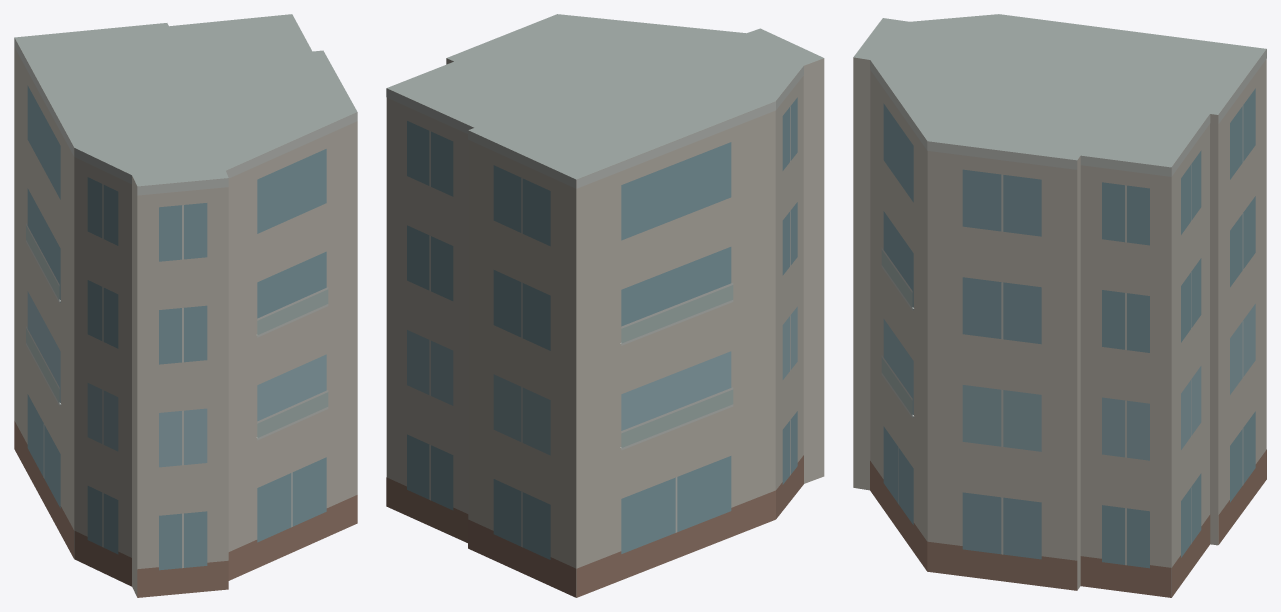
File: survey-upis-32895901.glb
3 renders of one model, left to right at view 1: azimuth 30°, elevation 25°; view 2: azimuth 150°, elevation 25°; view 3: azimuth 270°, elevation 25°, orthographic. The views are drawn at different scales.
Visible parts, largest first — view 1: survey-upis-32895901.tmp; view 2: survey-upis-32895901.tmp; view 3: survey-upis-32895901.tmp.
Boxes of the visible parts, x1,y1,x2,y2 form: survey-upis-32895901.tmp: (14,14,357,597); survey-upis-32895901.tmp: (386,14,824,597); survey-upis-32895901.tmp: (853,14,1266,597).
Size of the model in its own units: 8.42 by 11 by 9.59.
